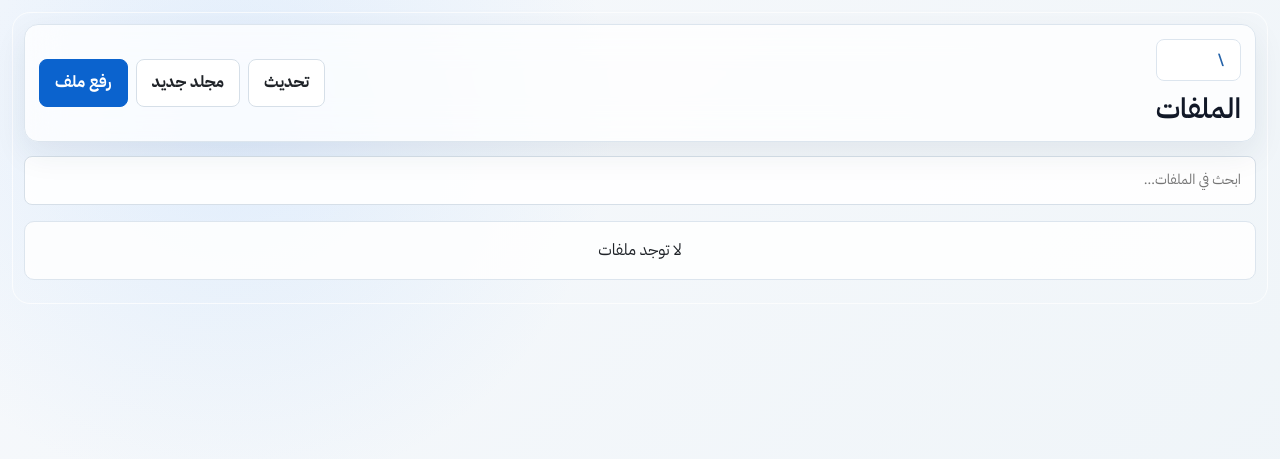
in training mode the upload button uploads the demo file and never reaches the file picker
This screenshot has width=1280, height=459.
Click the file field labelled "رفع ملف".
click(83, 83)  # box [39,59,128,107]
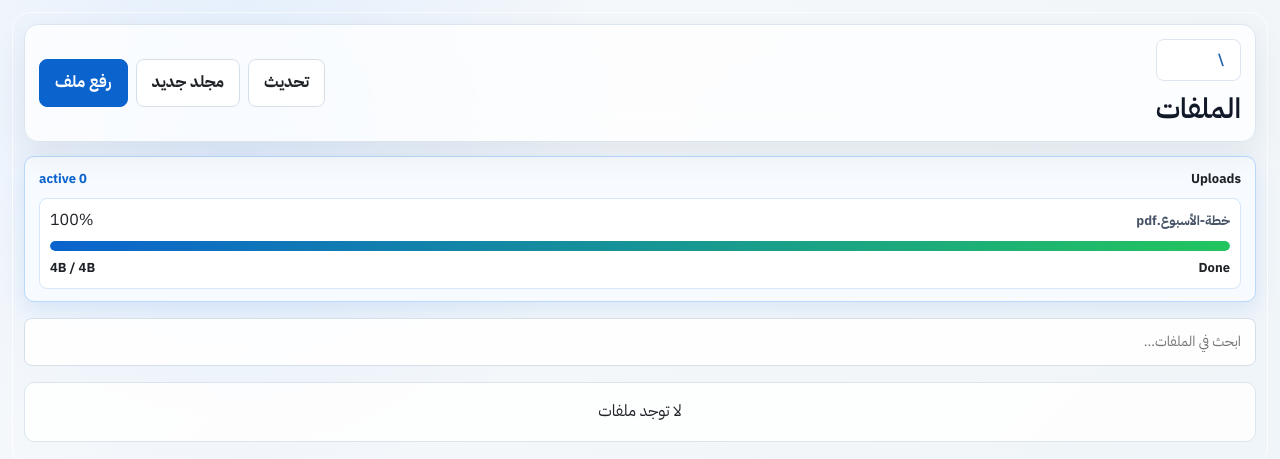
Expected: the text "خطة-الأسبوع.pdf" is shown, [1136,211,1230,231]
